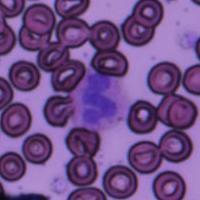N: (68, 68, 129, 132)
